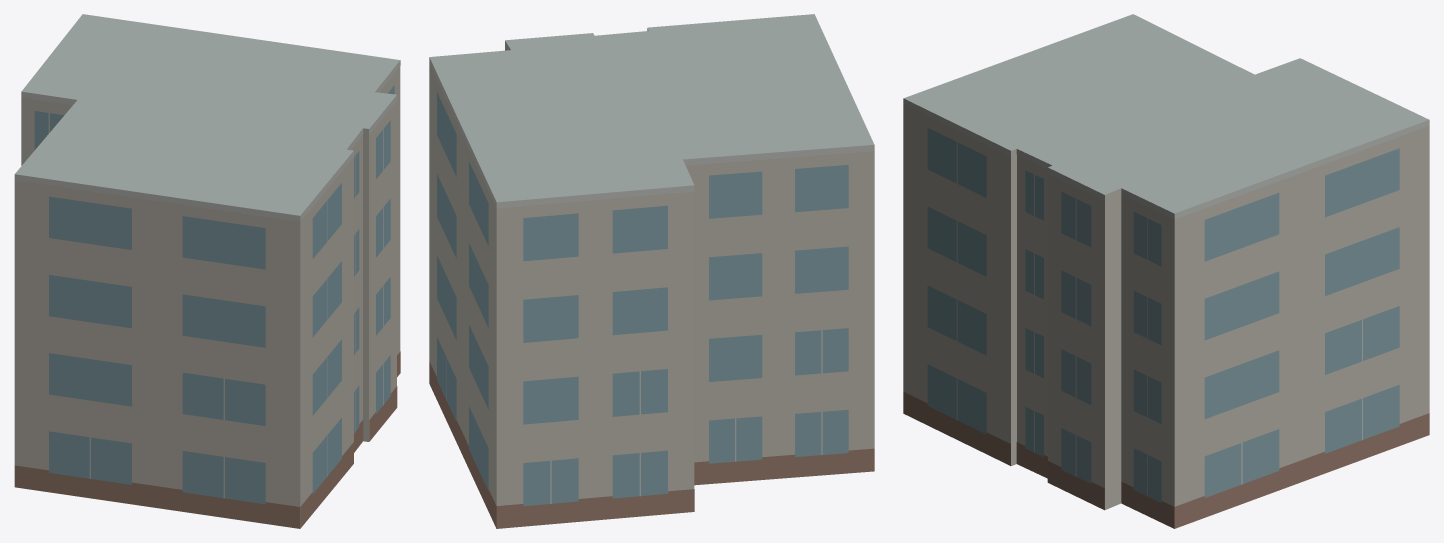
File: survey-upis-32748254.glb
The picture shows the model from 3 angles, left to right: view 1: azimuth 30°, elevation 25°; view 2: azimuth 150°, elevation 25°; view 3: azimuth 270°, elevation 25°; orthographic projection. The views are drawn at different scales.
Parts seen in each view (by area): view 1: survey-upis-32748254.tmp; view 2: survey-upis-32748254.tmp; view 3: survey-upis-32748254.tmp.
Part boxes in pixels (<box>): survey-upis-32748254.tmp: <box>14,14,400,528</box>; survey-upis-32748254.tmp: <box>429,14,874,528</box>; survey-upis-32748254.tmp: <box>903,14,1429,528</box>.
Size of the model in its own units: 17.5 by 12.88 by 19.49.
